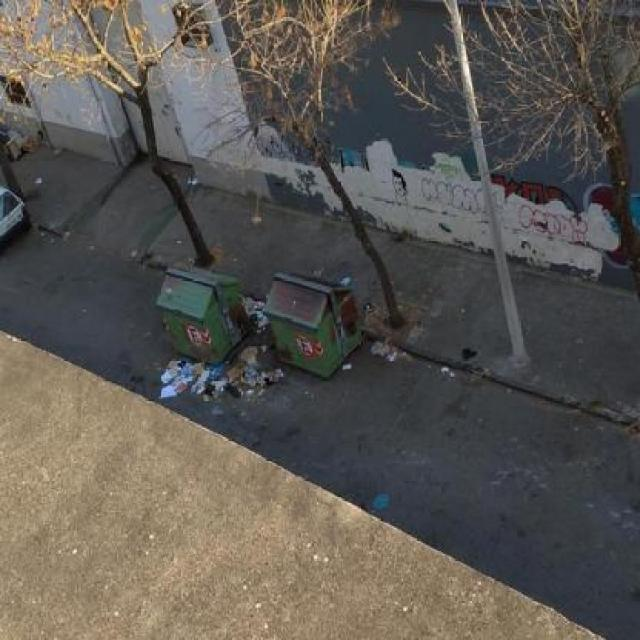garbage: (153, 349, 289, 408)
